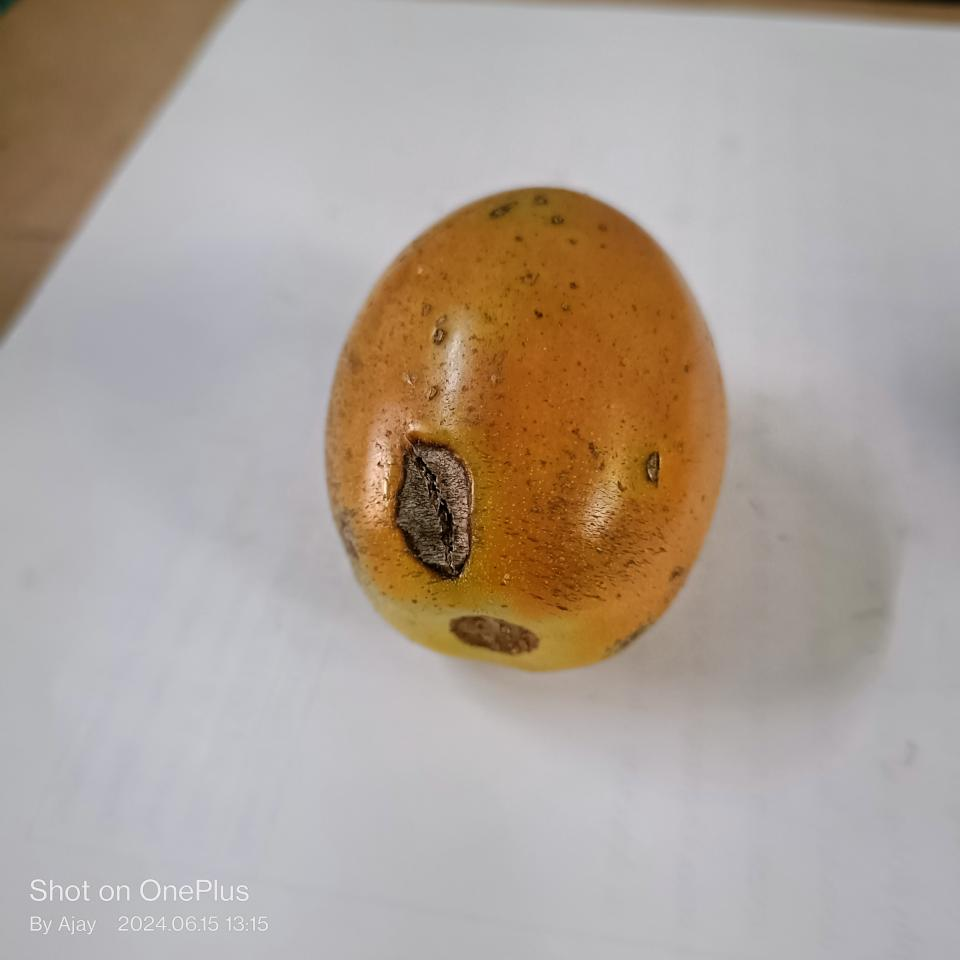Bacterial_Spot: (355, 427, 501, 586)
